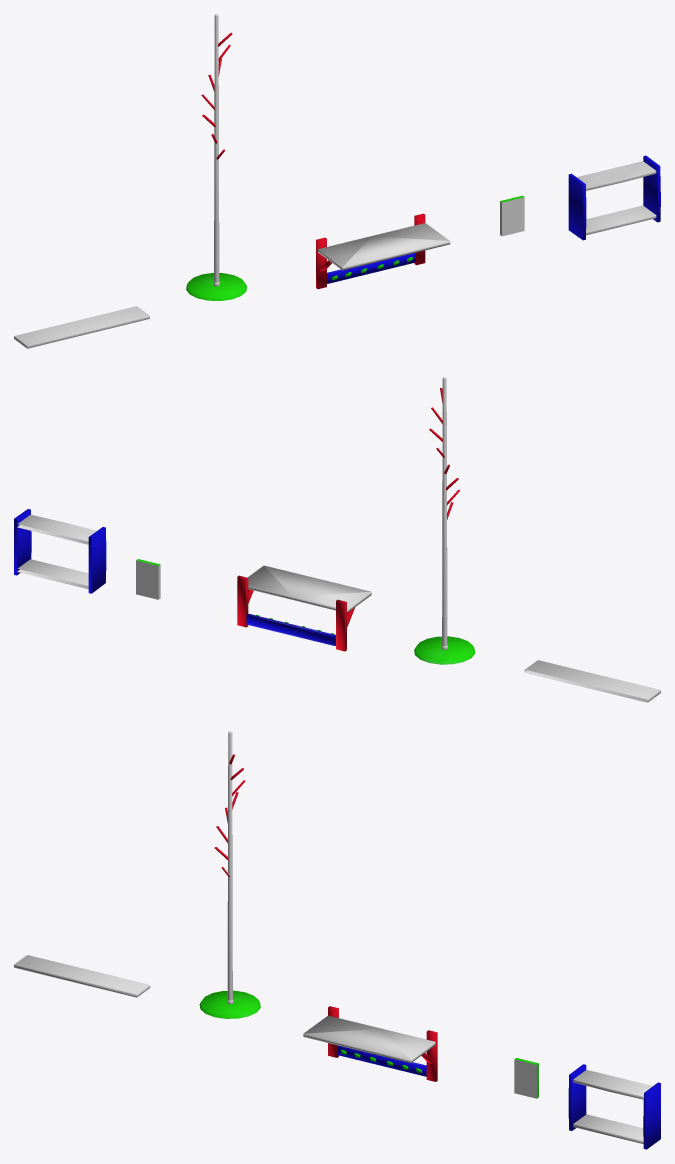
File: Furnitures_1_v2.fbx
The picture shows the model from 3 angles, top to bottom: view 1: azimuth 30°, elevation 25°; view 2: azimuth 150°, elevation 25°; view 3: azimuth 330°, elevation 25°; orthographic projection.
Parts seen in each view (by area): view 1: Coat_hanger_wall, Rack, Coat_hanger, Shelf, book.001; view 2: Coat_hanger_wall, Rack, Coat_hanger, Shelf, book.001; view 3: Coat_hanger_wall, Rack, Coat_hanger, Shelf, book.001.
Part boxes in pixels (x1,y1,x2,y2): Coat_hanger_wall: (316, 213, 450, 289); Rack: (568, 155, 660, 240); Coat_hanger: (186, 14, 247, 300); Shelf: (14, 306, 149, 348); book.001: (500, 195, 524, 236); Coat_hanger_wall: (237, 565, 371, 651); Rack: (14, 509, 106, 593); Coat_hanger: (414, 377, 475, 664); Shelf: (524, 660, 660, 702); book.001: (136, 559, 160, 599); Coat_hanger_wall: (303, 1006, 437, 1081); Rack: (568, 1064, 660, 1149); Coat_hanger: (199, 731, 260, 1018); Shelf: (14, 955, 150, 997); book.001: (514, 1058, 538, 1098).
Bounding box in the file's own units: 411 × 187 × 47.39.
